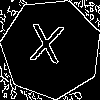X: (26, 23, 65, 73)
